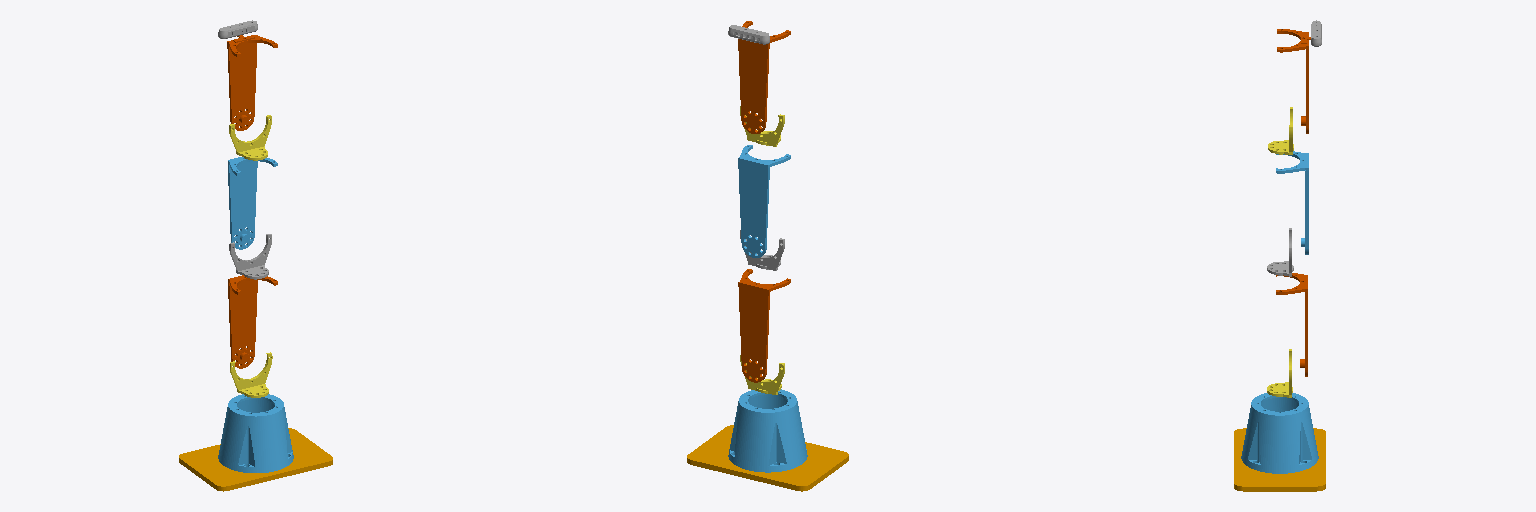
robot.urdf — sky7:
<?xml version="1.0" ?>
<!-- =================================================================================== -->
<!-- |    This document was autogenerated by xacro from sky7.xacro                     | -->
<!-- |    EDITING THIS FILE BY HAND IS NOT RECOMMENDED                                 | -->
<!-- =================================================================================== -->
<robot name="sky7">
  <link name="base_link">
    <inertial>
      <origin rpy="0 0 0" xyz="-1.6113547694874978e-15 1.8940913138634485e-05 0.0064626899691258245"/>
      <mass value="5.937224346313427"/>
      <inertia ixx="0.018869" ixy="-0.0" ixz="-0.0" iyy="0.042016" iyz="0.0" izz="0.060709"/>
    </inertial>
    <visual>
      <origin rpy="0 0 0" xyz="0 0 0"/>
      <geometry>
        <mesh filename="meshes_7sky/base_link.stl" scale="0.001 0.001 0.001"/>
      </geometry>
      <material name="silver"/>
    </visual>
    <collision>
      <origin rpy="0 0 0" xyz="0 0 0"/>
      <geometry>
        <mesh filename="meshes_7sky/base_link.stl" scale="0.001 0.001 0.001"/>
      </geometry>
    </collision>
  </link>
  <link name="cover1_1">
    <inertial>
      <origin rpy="0 0 0" xyz="-1.3417786171718322e-07 -2.529519138261787e-06 0.05522564657205477"/>
      <mass value="7.0497176951642775"/>
      <inertia ixx="0.025188" ixy="-0.0" ixz="-0.0" iyy="0.02519" iyz="-1e-06" izz="0.030801"/>
    </inertial>
    <visual>
      <origin rpy="0 0 0" xyz="-0.0 -0.0 -0.012"/>
      <geometry>
        <mesh filename="meshes_7sky/cover1_1.stl" scale="0.001 0.001 0.001"/>
      </geometry>
      <material name="silver"/>
    </visual>
    <collision>
      <origin rpy="0 0 0" xyz="-0.0 -0.0 -0.012"/>
      <geometry>
        <mesh filename="meshes_7sky/cover1_1.stl" scale="0.001 0.001 0.001"/>
      </geometry>
    </collision>
  </link>
  <link name="J1_1">
    <inertial>
      <origin rpy="0 0 0" xyz="-1.2049633286800674e-05 -0.047998877876147115 -0.027936819480223737"/>
      <mass value="3.4591697822080767"/>
      <inertia ixx="0.006219" ixy="1e-06" ixz="1e-06" iyy="0.006222" iyz="3e-06" izz="0.003734"/>
    </inertial>
    <visual>
      <origin rpy="0 0 0" xyz="0.0 -0.048 -0.136"/>
      <geometry>
        <mesh filename="meshes_7sky/J1_1.stl" scale="0.001 0.001 0.001"/>
      </geometry>
      <material name="silver"/>
    </visual>
    <collision>
      <origin rpy="0 0 0" xyz="0.0 -0.048 -0.136"/>
      <geometry>
        <mesh filename="meshes_7sky/J1_1.stl" scale="0.001 0.001 0.001"/>
      </geometry>
    </collision>
  </link>
  <link name="L1_1">
    <inertial>
      <origin rpy="0 0 0" xyz="-8.980076944736388e-11 0.012329382318895035 0.0157402936137076"/>
      <mass value="0.29834763022982164"/>
      <inertia ixx="0.000175" ixy="0.0" ixz="-0.0" iyy="0.000313" iyz="-4.2e-05" izz="0.000255"/>
    </inertial>
    <visual>
      <origin rpy="0 0 0" xyz="0.0 -0.0 -0.172"/>
      <geometry>
        <mesh filename="meshes_7sky/L1_1.stl" scale="0.001 0.001 0.001"/>
      </geometry>
      <material name="silver"/>
    </visual>
    <collision>
      <origin rpy="0 0 0" xyz="0.0 -0.0 -0.172"/>
      <geometry>
        <mesh filename="meshes_7sky/L1_1.stl" scale="0.001 0.001 0.001"/>
      </geometry>
    </collision>
  </link>
  <link name="J2_1">
    <inertial>
      <origin rpy="0 0 0" xyz="-1.2049633286800646e-05 -0.027936819480223838 0.04799848358903766"/>
      <mass value="3.4591697822080767"/>
      <inertia ixx="0.006219" ixy="1e-06" ixz="-1e-06" iyy="0.003734" iyz="-3e-06" izz="0.006222"/>
    </inertial>
    <visual>
      <origin rpy="0 0 0" xyz="0.0 -0.0186 -0.19046"/>
      <geometry>
        <mesh filename="meshes_7sky/J2_1.stl" scale="0.001 0.001 0.001"/>
      </geometry>
      <material name="silver"/>
    </visual>
    <collision>
      <origin rpy="0 0 0" xyz="0.0 -0.0186 -0.19046"/>
      <geometry>
        <mesh filename="meshes_7sky/J2_1.stl" scale="0.001 0.001 0.001"/>
      </geometry>
    </collision>
  </link>
  <link name="L2_1">
    <inertial>
      <origin rpy="0 0 0" xyz="-3.5816026978797294e-06 -7.682149769773494e-05 0.10517900764274013"/>
      <mass value="0.9117888535967525"/>
      <inertia ixx="0.004373" ixy="0.0" ixz="0.0" iyy="0.00469" iyz="0.000248" izz="0.000538"/>
    </inertial>
    <visual>
      <origin rpy="0 0 0" xyz="0.0 -0.0546 -0.23846"/>
      <geometry>
        <mesh filename="meshes_7sky/L2_1.stl" scale="0.001 0.001 0.001"/>
      </geometry>
      <material name="silver"/>
    </visual>
    <collision>
      <origin rpy="0 0 0" xyz="0.0 -0.0546 -0.23846"/>
      <geometry>
        <mesh filename="meshes_7sky/L2_1.stl" scale="0.001 0.001 0.001"/>
      </geometry>
    </collision>
  </link>
  <link name="J3_1">
    <inertial>
      <origin rpy="0 0 0" xyz="-6.78726953126909e-05 -0.04799882367723014 -0.027937213767333435"/>
      <mass value="3.4591697822080767"/>
      <inertia ixx="0.006219" ixy="1e-06" ixz="1e-06" iyy="0.006222" iyz="3e-06" izz="0.003734"/>
    </inertial>
    <visual>
      <origin rpy="0 0 0" xyz="1.4e-05 -0.0491 -0.42846"/>
      <geometry>
        <mesh filename="meshes_7sky/J3_1.stl" scale="0.001 0.001 0.001"/>
      </geometry>
      <material name="silver"/>
    </visual>
    <collision>
      <origin rpy="0 0 0" xyz="1.4e-05 -0.0491 -0.42846"/>
      <geometry>
        <mesh filename="meshes_7sky/J3_1.stl" scale="0.001 0.001 0.001"/>
      </geometry>
    </collision>
  </link>
  <link name="L3_1">
    <inertial>
      <origin rpy="0 0 0" xyz="1.4405153224256927e-05 0.012329414400566665 0.015739899326597917"/>
      <mass value="0.29834763022982164"/>
      <inertia ixx="0.000175" ixy="0.0" ixz="-0.0" iyy="0.000313" iyz="-4.2e-05" izz="0.000255"/>
    </inertial>
    <visual>
      <origin rpy="0 0 0" xyz="7e-05 -0.0011 -0.46446"/>
      <geometry>
        <mesh filename="meshes_7sky/L3_1.stl" scale="0.001 0.001 0.001"/>
      </geometry>
      <material name="silver"/>
    </visual>
    <collision>
      <origin rpy="0 0 0" xyz="7e-05 -0.0011 -0.46446"/>
      <geometry>
        <mesh filename="meshes_7sky/L3_1.stl" scale="0.001 0.001 0.001"/>
      </geometry>
    </collision>
  </link>
  <link name="J4_1">
    <inertial>
      <origin rpy="0 0 0" xyz="-4.464981670088769e-05 -0.027936759062249628 0.04799908930192809"/>
      <mass value="3.4591697822080767"/>
      <inertia ixx="0.006219" ixy="-1e-06" ixz="-1e-06" iyy="0.003734" iyz="-3e-06" izz="0.006222"/>
    </inertial>
    <visual>
      <origin rpy="0 0 0" xyz="4.8e-05 -0.0197 -0.482919"/>
      <geometry>
        <mesh filename="meshes_7sky/J4_1.stl" scale="0.001 0.001 0.001"/>
      </geometry>
      <material name="silver"/>
    </visual>
    <collision>
      <origin rpy="0 0 0" xyz="4.8e-05 -0.0197 -0.482919"/>
      <geometry>
        <mesh filename="meshes_7sky/J4_1.stl" scale="0.001 0.001 0.001"/>
      </geometry>
    </collision>
  </link>
  <link name="L4_1">
    <inertial>
      <origin rpy="0 0 0" xyz="-3.4795799272473788e-06 -7.681338353822398e-05 0.10517961335563053"/>
      <mass value="0.9117888535967525"/>
      <inertia ixx="0.004373" ixy="0.0" ixz="1e-06" iyy="0.00469" iyz="0.000248" izz="0.000538"/>
    </inertial>
    <visual>
      <origin rpy="0 0 0" xyz="7e-06 -0.0557 -0.530919"/>
      <geometry>
        <mesh filename="meshes_7sky/L4_1.stl" scale="0.001 0.001 0.001"/>
      </geometry>
      <material name="silver"/>
    </visual>
    <collision>
      <origin rpy="0 0 0" xyz="7e-06 -0.0557 -0.530919"/>
      <geometry>
        <mesh filename="meshes_7sky/L4_1.stl" scale="0.001 0.001 0.001"/>
      </geometry>
    </collision>
  </link>
  <link name="J5_1">
    <inertial>
      <origin rpy="0 0 0" xyz="-0.0001224261143731809 -0.04799868962663415 -0.02793660805444287"/>
      <mass value="3.4591697822080767"/>
      <inertia ixx="0.006219" ixy="1e-06" ixz="1e-06" iyy="0.006222" iyz="3e-06" izz="0.003734"/>
    </inertial>
    <visual>
      <origin rpy="0 0 0" xyz="2.8e-05 -0.0502 -0.720919"/>
      <geometry>
        <mesh filename="meshes_7sky/J5_1.stl" scale="0.001 0.001 0.001"/>
      </geometry>
      <material name="silver"/>
    </visual>
    <collision>
      <origin rpy="0 0 0" xyz="2.8e-05 -0.0502 -0.720919"/>
      <geometry>
        <mesh filename="meshes_7sky/J5_1.stl" scale="0.001 0.001 0.001"/>
      </geometry>
    </collision>
  </link>
  <link name="L5_1">
    <inertial>
      <origin rpy="0 0 0" xyz="2.8080004212657027e-05 0.012329509912735837 0.015740505039488872"/>
      <mass value="0.29834763022982164"/>
      <inertia ixx="0.000175" ixy="0.0" ixz="-0.0" iyy="0.000313" iyz="-4.2e-05" izz="0.000255"/>
    </inertial>
    <visual>
      <origin rpy="0 0 0" xyz="0.000138 -0.0022 -0.756319"/>
      <geometry>
        <mesh filename="meshes_7sky/L5_1.stl" scale="0.001 0.001 0.001"/>
      </geometry>
      <material name="silver"/>
    </visual>
    <collision>
      <origin rpy="0 0 0" xyz="0.000138 -0.0022 -0.756319"/>
      <geometry>
        <mesh filename="meshes_7sky/L5_1.stl" scale="0.001 0.001 0.001"/>
      </geometry>
    </collision>
  </link>
  <link name="J6_1">
    <inertial>
      <origin rpy="0 0 0" xyz="-7.698034279447625e-05 -0.027936606354490516 0.04799869501481868"/>
      <mass value="3.4591697822080767"/>
      <inertia ixx="0.006219" ixy="-4e-06" ixz="-1e-06" iyy="0.003734" iyz="-3e-06" izz="0.006222"/>
    </inertial>
    <visual>
      <origin rpy="0 0 0" xyz="9.5e-05 -0.0208 -0.774779"/>
      <geometry>
        <mesh filename="meshes_7sky/J6_1.stl" scale="0.001 0.001 0.001"/>
      </geometry>
      <material name="silver"/>
    </visual>
    <collision>
      <origin rpy="0 0 0" xyz="9.5e-05 -0.0208 -0.774779"/>
      <geometry>
        <mesh filename="meshes_7sky/J6_1.stl" scale="0.001 0.001 0.001"/>
      </geometry>
    </collision>
  </link>
  <link name="L6_1">
    <inertial>
      <origin rpy="0 0 0" xyz="-7.047473685844884e-06 -1.5716245417136954e-05 0.10721582346819292"/>
      <mass value="0.9321314472557242"/>
      <inertia ixx="0.004549" ixy="1e-06" ixz="1e-06" iyy="0.004867" iyz="0.000242" izz="0.000544"/>
    </inertial>
    <visual>
      <origin rpy="0 0 0" xyz="1.2e-05 -0.0568 -0.822779"/>
      <geometry>
        <mesh filename="meshes_7sky/L6_1.stl" scale="0.001 0.001 0.001"/>
      </geometry>
      <material name="silver"/>
    </visual>
    <collision>
      <origin rpy="0 0 0" xyz="1.2e-05 -0.0568 -0.822779"/>
      <geometry>
        <mesh filename="meshes_7sky/L6_1.stl" scale="0.001 0.001 0.001"/>
      </geometry>
    </collision>
  </link>
  <link name="J7_1">
    <inertial>
      <origin rpy="0 0 0" xyz="-0.00017870979915529233 -0.04799847718973476 -0.027937002341552053"/>
      <mass value="3.4591697822080767"/>
      <inertia ixx="0.006219" ixy="1e-06" ixz="1e-06" iyy="0.006222" iyz="3e-06" izz="0.003734"/>
    </inertial>
    <visual>
      <origin rpy="0 0 0" xyz="3.9e-05 -0.0513 -1.012779"/>
      <geometry>
        <mesh filename="meshes_7sky/J7_1.stl" scale="0.001 0.001 0.001"/>
      </geometry>
      <material name="silver"/>
    </visual>
    <collision>
      <origin rpy="0 0 0" xyz="3.9e-05 -0.0513 -1.012779"/>
      <geometry>
        <mesh filename="meshes_7sky/J7_1.stl" scale="0.001 0.001 0.001"/>
      </geometry>
    </collision>
  </link>
  <link name="cam_1">
    <inertial>
      <origin rpy="0 0 0" xyz="2.9606115520747103e-05 -0.007206203502401615 0.0099796216106387"/>
      <mass value="0.3273893989685979"/>
      <inertia ixx="2.4e-05" ixy="0.0" ixz="-0.0" iyy="0.00025" iyz="0.0" izz="0.000252"/>
    </inertial>
    <visual>
      <origin rpy="0 0 0" xyz="2.8e-05 -0.086775 -1.022779"/>
      <geometry>
        <mesh filename="meshes_7sky/cam_1.stl" scale="0.001 0.001 0.001"/>
      </geometry>
      <material name="silver"/>
    </visual>
    <collision>
      <origin rpy="0 0 0" xyz="2.8e-05 -0.086775 -1.022779"/>
      <geometry>
        <mesh filename="meshes_7sky/cam_1.stl" scale="0.001 0.001 0.001"/>
      </geometry>
    </collision>
  </link>
  <joint name="Sztywne 1" type="fixed">
    <origin rpy="0 0 0" xyz="0.0 0.0 0.012"/>
    <parent link="base_link"/>
    <child link="cover1_1"/>
  </joint>
  <joint name="Sztywne 2" type="fixed">
    <origin rpy="0 0 0" xyz="-0.0 0.048 0.124"/>
    <parent link="cover1_1"/>
    <child link="J1_1"/>
  </joint>
  <joint name="Obr�t 3" type="continuous">
    <origin rpy="0 0 0" xyz="0.0 -0.048 0.036"/>
    <parent link="J1_1"/>
    <child link="L1_1"/>
    <axis xyz="0.0 0.0 -1.0"/>
  </joint>
  <joint name="Sztywne 4" type="fixed">
    <origin rpy="0 0 0" xyz="0.0 0.0186 0.01846"/>
    <parent link="L1_1"/>
    <child link="J2_1"/>
  </joint>
  <joint name="Obr�t 5" type="continuous">
    <origin rpy="0 0 0" xyz="0.0 0.036 0.048"/>
    <parent link="J2_1"/>
    <child link="L2_1"/>
    <axis xyz="-0.0 -1.0 -0.0"/>
  </joint>
  <joint name="Sztywne 6" type="fixed">
    <origin rpy="0 0 0" xyz="-1.4e-05 -0.0055 0.19"/>
    <parent link="L2_1"/>
    <child link="J3_1"/>
  </joint>
  <joint name="Obr�t 7" type="continuous">
    <origin rpy="0 0 0" xyz="-5.6e-05 -0.048 0.036"/>
    <parent link="J3_1"/>
    <child link="L3_1"/>
    <axis xyz="0.0 0.0 -1.0"/>
  </joint>
  <joint name="Sztywne 8" type="fixed">
    <origin rpy="0 0 0" xyz="2.2e-05 0.0186 0.018459"/>
    <parent link="L3_1"/>
    <child link="J4_1"/>
  </joint>
  <joint name="Obr�t 9" type="continuous">
    <origin rpy="0 0 0" xyz="4.1e-05 0.036 0.048"/>
    <parent link="J4_1"/>
    <child link="L4_1"/>
    <axis xyz="-0.001154 -0.999999 -0.0"/>
  </joint>
  <joint name="Sztywne 10" type="fixed">
    <origin rpy="0 0 0" xyz="-2.1e-05 -0.0055 0.19"/>
    <parent link="L4_1"/>
    <child link="J5_1"/>
  </joint>
  <joint name="Obr�t 11" type="continuous">
    <origin rpy="0 0 0" xyz="-0.00011 -0.048 0.0354"/>
    <parent link="J5_1"/>
    <child link="L5_1"/>
    <axis xyz="0.0 -0.0 1.0"/>
  </joint>
  <joint name="Sztywne 12" type="fixed">
    <origin rpy="0 0 0" xyz="4.3e-05 0.0186 0.01846"/>
    <parent link="L5_1"/>
    <child link="J6_1"/>
  </joint>
  <joint name="Sztywne 13" type="fixed">
    <origin rpy="0 0 0" xyz="8.3e-05 0.036 0.048"/>
    <parent link="J6_1"/>
    <child link="L6_1"/>
  </joint>
  <joint name="Sztywne 14" type="fixed">
    <origin rpy="0 0 0" xyz="-2.7e-05 -0.0055 0.19"/>
    <parent link="L6_1"/>
    <child link="J7_1"/>
  </joint>
  <joint name="Sztywne 16" type="fixed">
    <origin rpy="0 0 0" xyz="-1.6e-05 0.029975 0.2"/>
    <parent link="L6_1"/>
    <child link="cam_1"/>
  </joint>
</robot>

--- What the picture shows (computed from the rendered views, not written in the file) ---
The picture shows the robot from 3 angles, left to right: view 1: azimuth 30°, elevation 25°; view 2: azimuth 150°, elevation 25°; view 3: azimuth 270°, elevation 25°; orthographic projection.
Model sky7 with 16 links and 15 joints (5 continuous, 10 fixed), rooted at base_link, posed all joints at 0.
Visible links, largest first — view 1: cover1_1, base_link, L6_1, L2_1, L4_1, L3_1, L5_1, L1_1; view 2: cover1_1, base_link, L4_1, L2_1, L6_1, L5_1, L1_1, L3_1; view 3: cover1_1, base_link, L4_1, L6_1, L2_1.
Link boxes in pixels (x1,y1,x2,y2): cover1_1: [218, 394, 293, 472]; base_link: [179, 428, 332, 491]; L6_1: [227, 35, 277, 130]; L2_1: [228, 275, 277, 368]; L4_1: [228, 157, 277, 249]; L3_1: [229, 234, 271, 279]; L5_1: [229, 115, 271, 160]; L1_1: [230, 352, 272, 397]; cover1_1: [728, 389, 807, 472]; base_link: [687, 425, 848, 491]; L4_1: [738, 145, 790, 257]; L2_1: [738, 269, 790, 382]; L6_1: [738, 21, 790, 133]; L5_1: [740, 106, 784, 146]; L1_1: [740, 355, 784, 394]; L3_1: [740, 230, 784, 270]; cover1_1: [1241, 393, 1318, 473]; base_link: [1234, 428, 1325, 491]; L4_1: [1276, 151, 1308, 254]; L6_1: [1277, 29, 1310, 133]; L2_1: [1276, 273, 1307, 376].
Size in the robot's own frame: 0.3 by 0.2 by 1.04 metres.
Meshes: 16 distinct files referenced, 9 mesh visuals loaded (9 binary STL); not drawn: 7 (reference not matched to a file when rendering).
